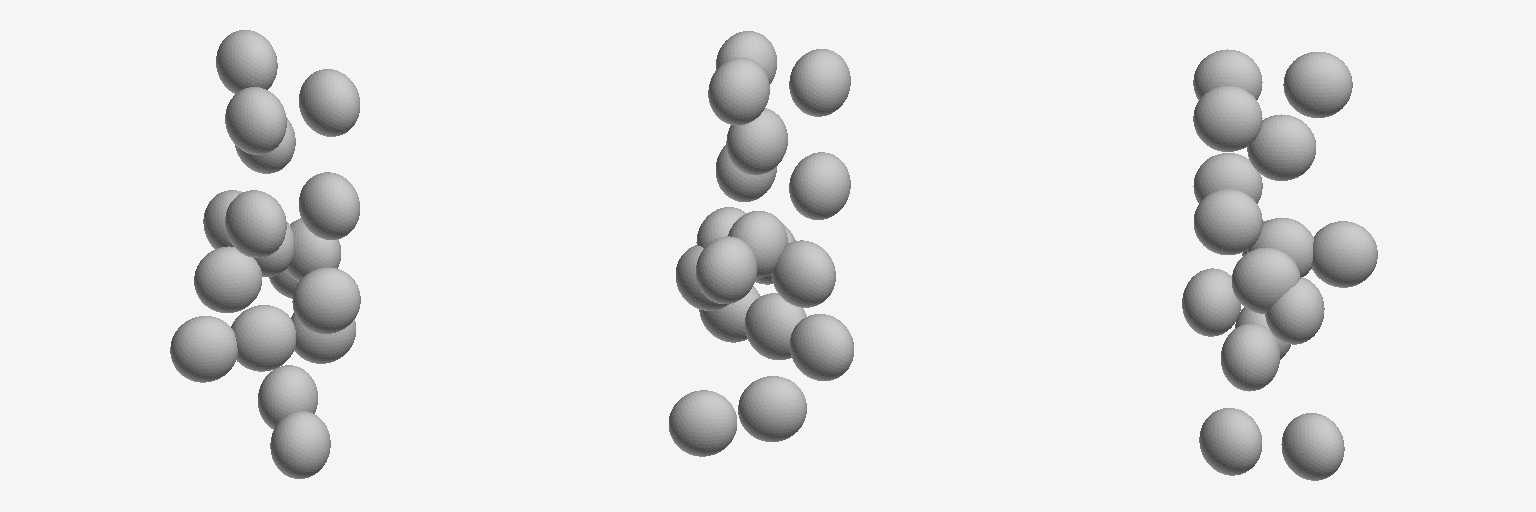
The model's file is PointsGriff.obj.
3 renders of one model, left to right at view 1: azimuth 30°, elevation 25°; view 2: azimuth 150°, elevation 25°; view 3: azimuth 270°, elevation 25°, orthographic.
Parts seen in each view (by area): view 1: PointsGriff; view 2: PointsGriff; view 3: PointsGriff.
Boxes of the visible parts, box(x1,y1,x2,y2) form: PointsGriff: box(170, 30, 360, 478); PointsGriff: box(669, 31, 853, 456); PointsGriff: box(1182, 49, 1377, 480).
Bounding box in the file's own units: 0.6253 × 1.5 × 0.6427.